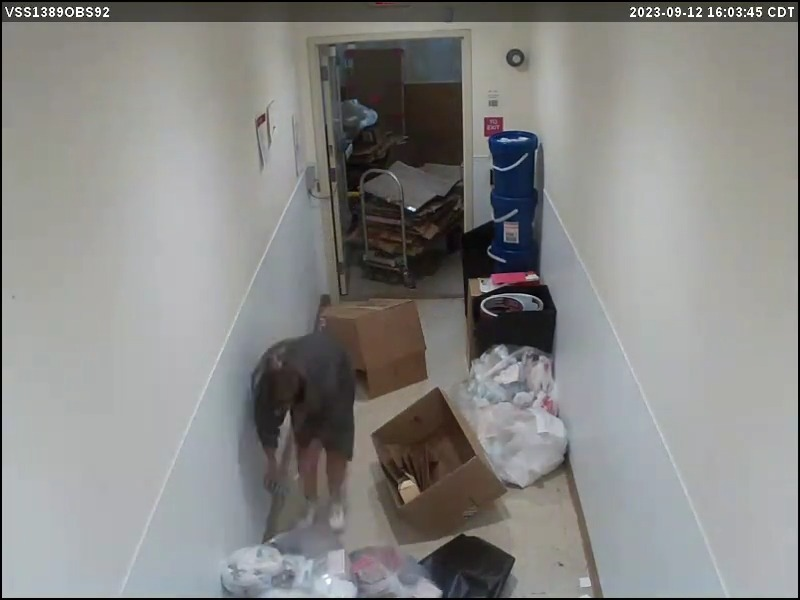No-gloves: (260, 460, 284, 498)
